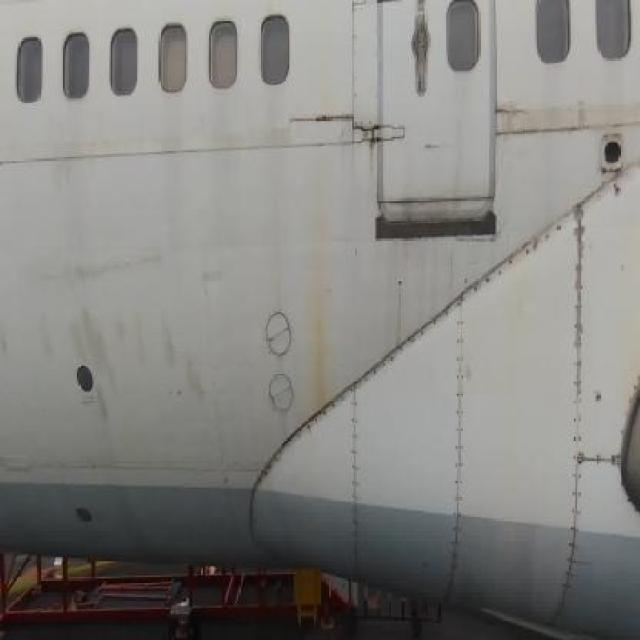Missing-Rivet: (565, 196, 590, 622), (462, 223, 562, 305), (358, 308, 448, 388), (254, 393, 346, 469), (449, 297, 473, 575), (347, 380, 368, 562), (592, 436, 622, 501)
Rust: (298, 188, 345, 418)
Scartch: (2, 305, 209, 449), (37, 243, 163, 302), (498, 99, 592, 141), (193, 257, 232, 297)
